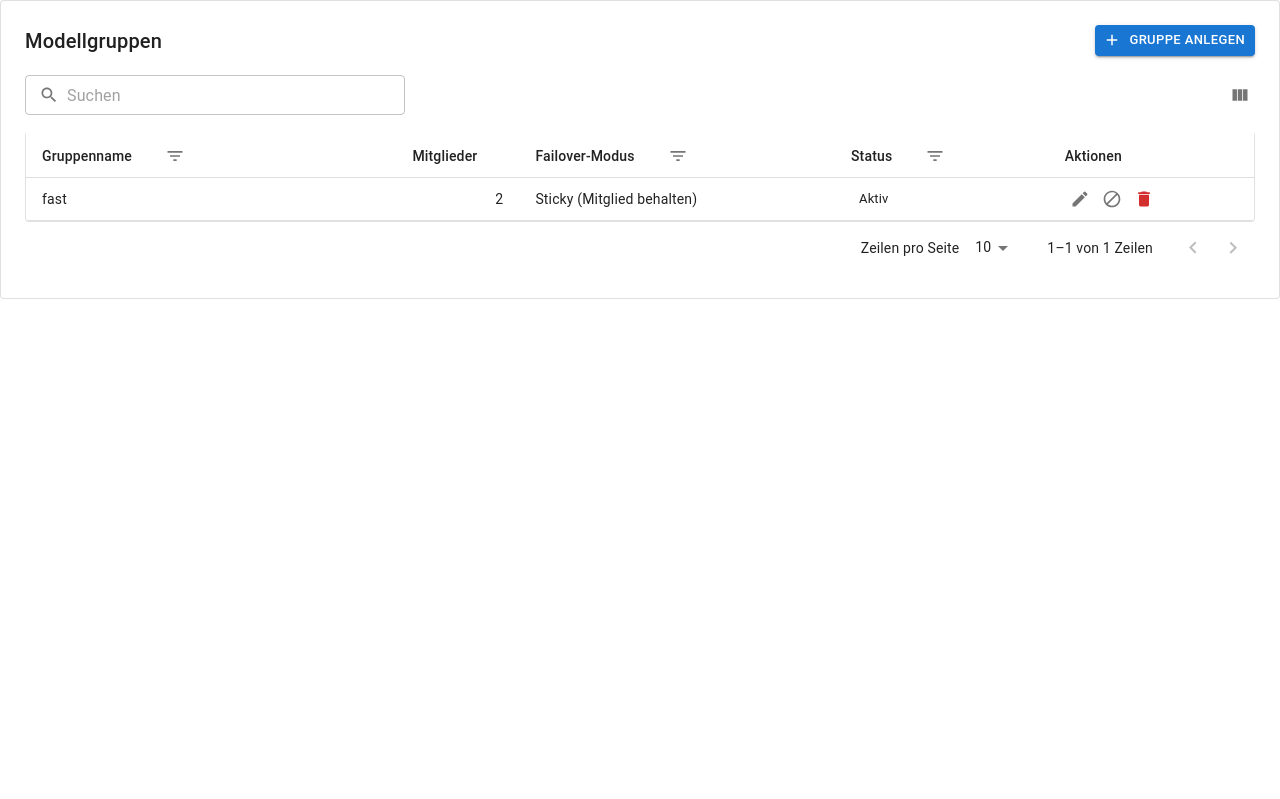
Scenario: pre-fills the visibility select from the group being edited
Expected: the text "fast" is shown, top-left (26, 178), bottom-right (319, 220)
What coordinates should you click on to do the following:
click the button named "Bearbeiten"
I would click on:
 (1080, 199)
Its box is top-left (1065, 184), bottom-right (1095, 214).
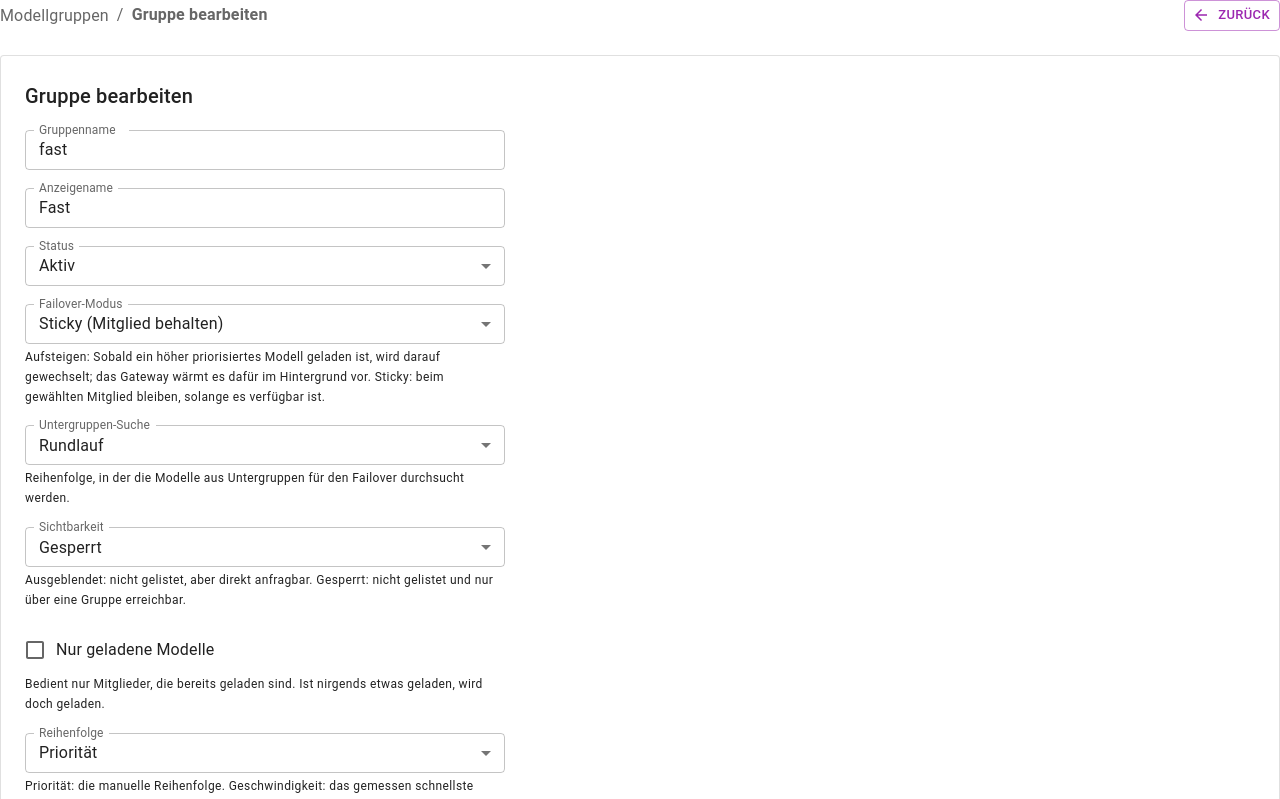
Now the dropdown named "Sichtbarkeit" reads "Gesperrt", box top-left (39, 538), bottom-right (102, 557)
